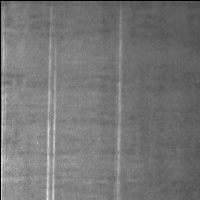scratches: (111, 5, 126, 200), (44, 30, 59, 200)
